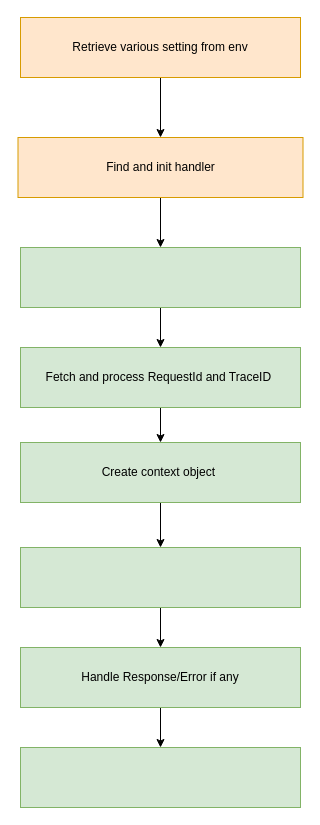
The diagram is 320 pixels wide and 825 high, and some of its shapes have lost their labels. The shapes that lost their labels are listed below. From the top down, each one's box as (x1, y1, x2, y2) in pixels, then its label:
(20, 246, 300, 308): Call next invocation API
(20, 546, 300, 608): Retrieve the request and call handler method
(20, 746, 300, 808): Clean up
